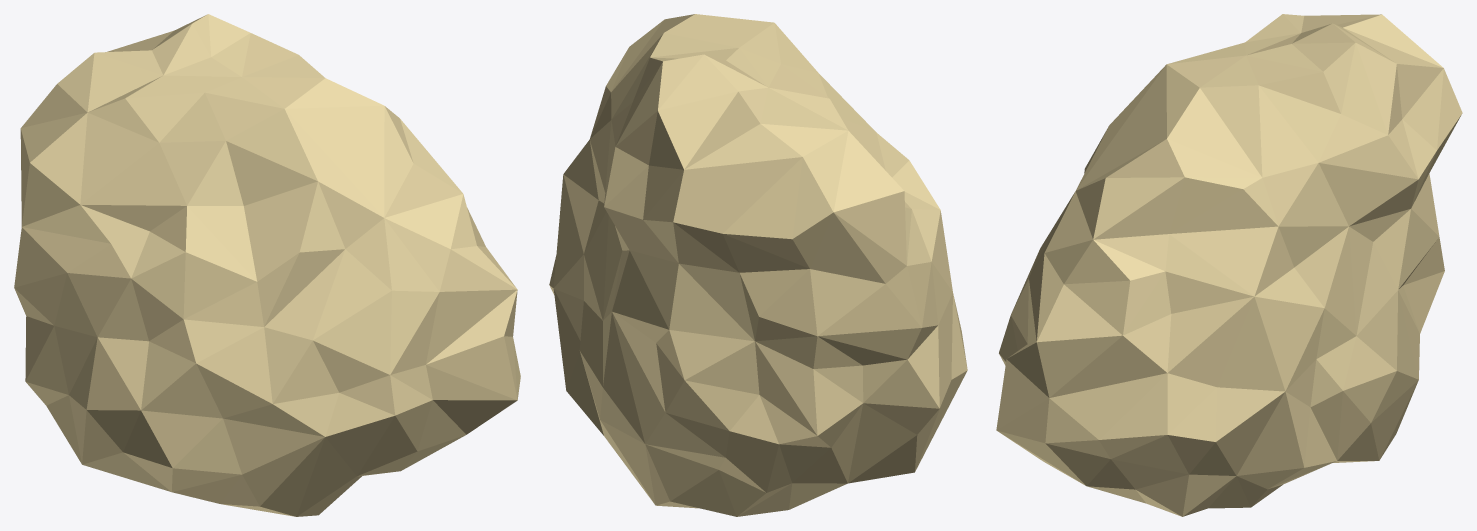
The model's file is Asteroid (82).fbx.
3 renders of one model, left to right at view 1: azimuth 30°, elevation 25°; view 2: azimuth 150°, elevation 25°; view 3: azimuth 270°, elevation 25°, orthographic. The views are drawn at different scales.
Parts seen in each view (by area): view 1: Asteroid207; view 2: Asteroid207; view 3: Asteroid207.
Part boxes in pixels (x1=…): Asteroid207: x1=14, y1=14, x2=520, y2=516; Asteroid207: x1=549, y1=14, x2=967, y2=516; Asteroid207: x1=996, y1=14, x2=1462, y2=516.
Size of the model in its own units: 427 by 449 by 404.
